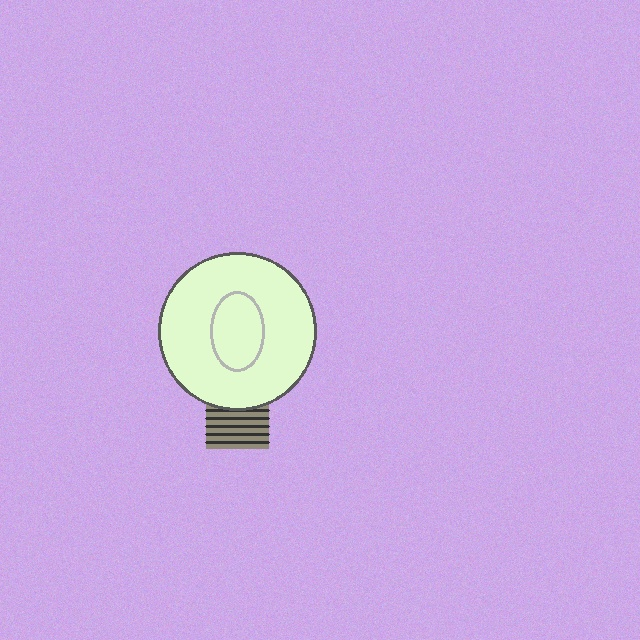bulb: (154, 248, 320, 453)
